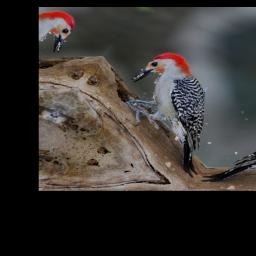Woodpecker: (85, 47, 256, 177)
